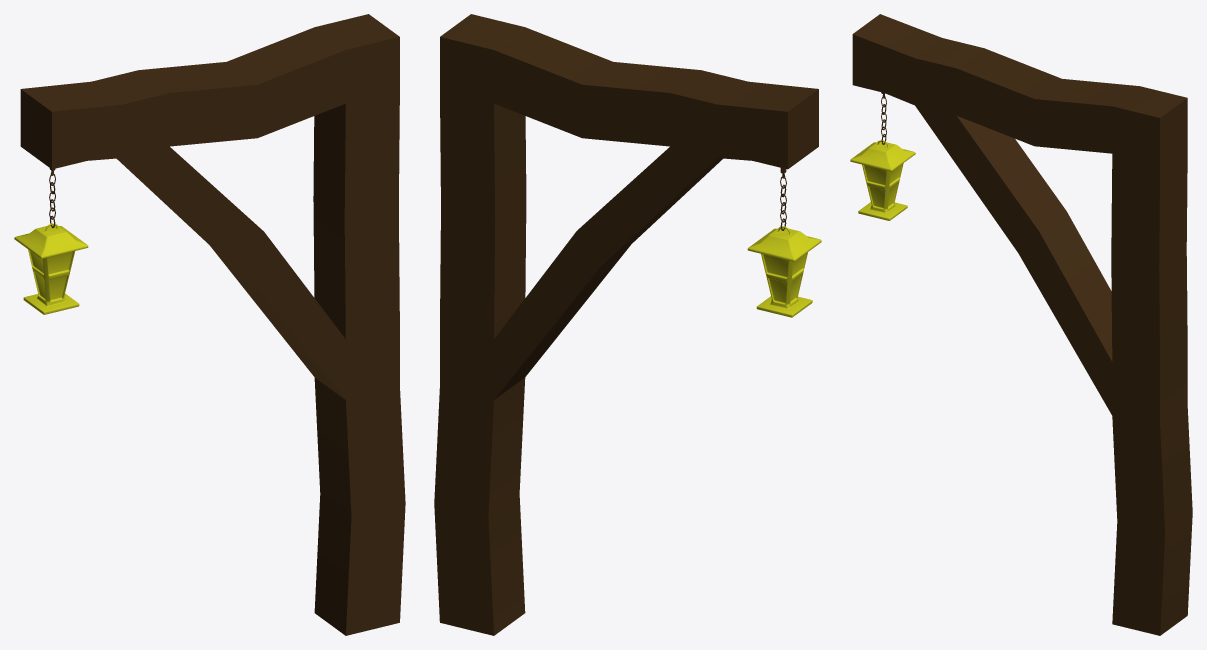
The model's file is Pole.obj.
3 renders of one model, left to right at view 1: azimuth 30°, elevation 25°; view 2: azimuth 150°, elevation 25°; view 3: azimuth 330°, elevation 25°, orthographic. The views are drawn at different scales.
Parts seen in each view (by area): view 1: pillar_Куб, lamp_Куб.001; view 2: pillar_Куб, lamp_Куб.001; view 3: pillar_Куб, lamp_Куб.001.
Boxes of the visible parts, x1=… form: pillar_Куб: x1=20, y1=14, x2=405, y2=635; lamp_Куб.001: x1=14, y1=223, x2=88, y2=314; pillar_Куб: x1=434, y1=14, x2=818, y2=635; lamp_Куб.001: x1=747, y1=226, x2=821, y2=317; pillar_Куб: x1=852, y1=14, x2=1192, y2=635; lamp_Куб.001: x1=850, y1=140, x2=915, y2=220.
Size of the model in its own units: 4.87 by 7.7 by 0.7437.
